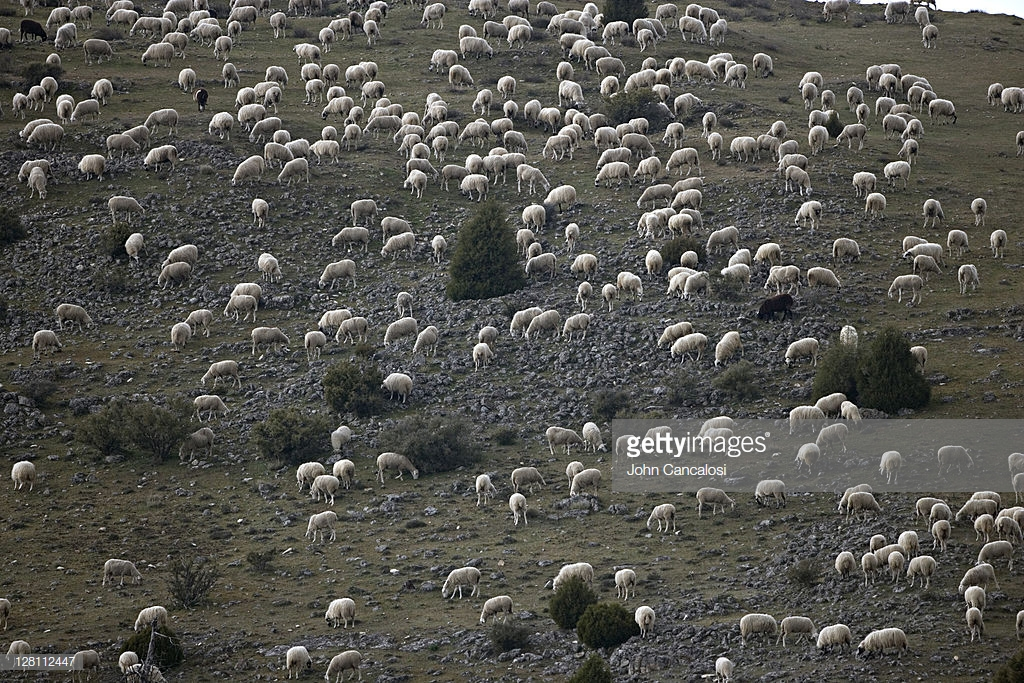sheep: (859, 624, 910, 660), (98, 553, 142, 592), (440, 566, 480, 603), (375, 452, 418, 486), (737, 611, 779, 645), (250, 325, 293, 357), (304, 507, 340, 545), (104, 193, 143, 227), (782, 336, 820, 369), (524, 310, 561, 342), (515, 162, 552, 194), (232, 153, 263, 191), (509, 466, 548, 496), (846, 491, 886, 520), (382, 317, 417, 350), (670, 330, 706, 362), (886, 273, 923, 304), (712, 328, 742, 366), (763, 265, 801, 295), (567, 468, 602, 500), (806, 264, 841, 296), (320, 597, 356, 628), (664, 147, 702, 176), (379, 373, 414, 404), (616, 269, 647, 303), (878, 449, 905, 488), (284, 645, 314, 680), (9, 460, 37, 497), (705, 226, 743, 253), (754, 481, 790, 509), (334, 316, 368, 345), (783, 163, 812, 197), (25, 121, 64, 146), (558, 77, 585, 113), (362, 114, 402, 138), (307, 475, 340, 504), (460, 35, 494, 63), (816, 626, 851, 653), (646, 503, 677, 533), (793, 199, 822, 231), (594, 160, 631, 185), (835, 123, 868, 150), (794, 444, 820, 478), (636, 183, 674, 206), (831, 236, 861, 265), (206, 108, 234, 139), (276, 157, 309, 183), (142, 107, 181, 129), (684, 60, 717, 86), (683, 271, 711, 301), (678, 15, 708, 43), (883, 160, 911, 189), (459, 121, 490, 147), (471, 474, 496, 506), (320, 95, 353, 119), (461, 174, 490, 201), (429, 47, 458, 74), (834, 551, 859, 582), (957, 261, 982, 292), (922, 198, 946, 230), (31, 328, 59, 355), (402, 169, 429, 197), (851, 170, 877, 199), (472, 342, 494, 376), (442, 164, 470, 190), (862, 191, 887, 220), (449, 63, 475, 90), (753, 241, 783, 264), (946, 229, 970, 257), (636, 605, 656, 638), (505, 24, 532, 48), (751, 51, 774, 79), (472, 89, 494, 116), (990, 227, 1008, 257)
